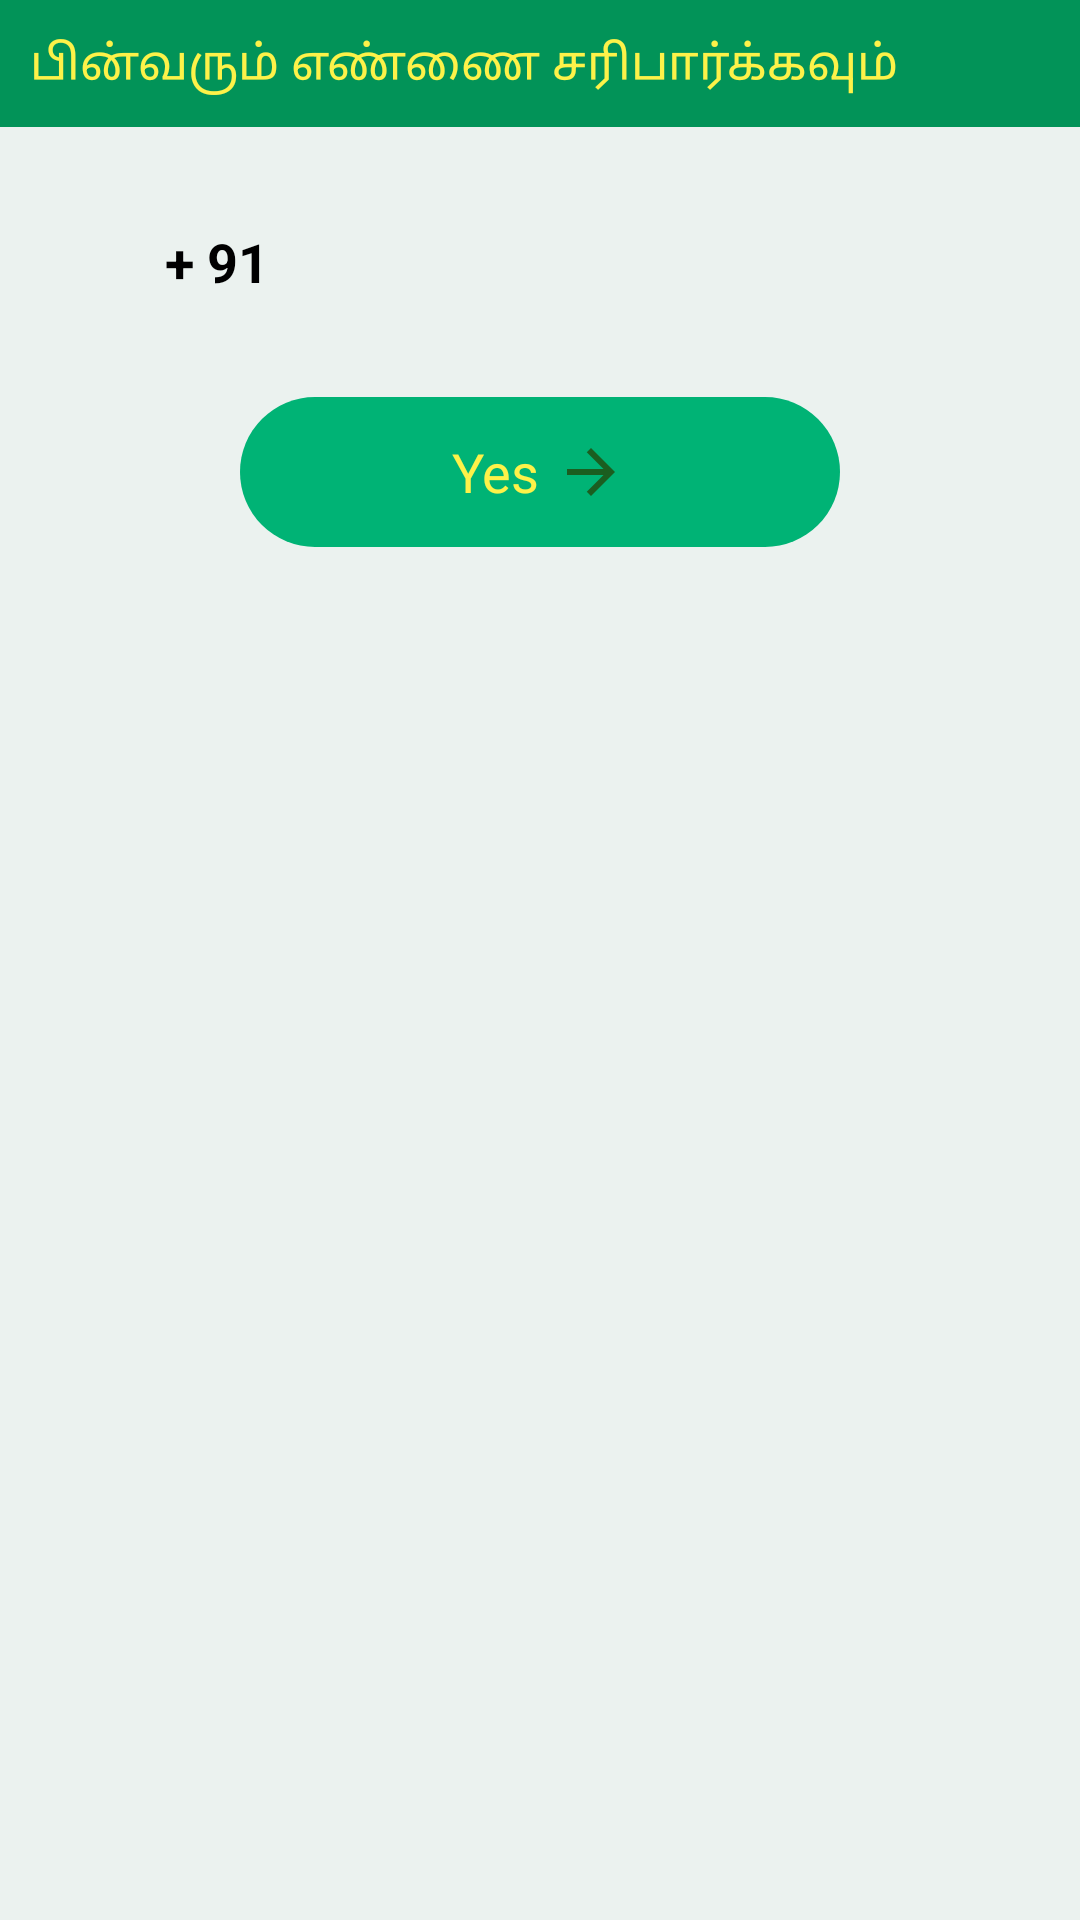

Point at icon controls on the screen. Image size 1080*1920, points as (x=x, y=y).
arrow forward: (x=591, y=472)
